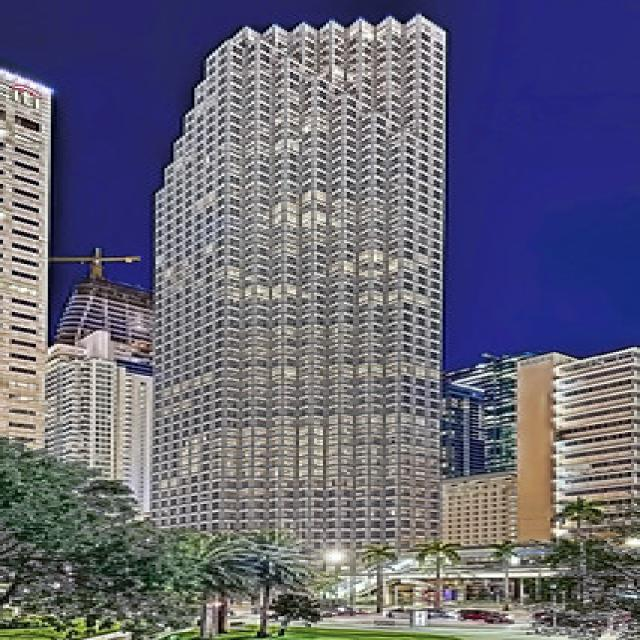building: (138, 8, 452, 602)
